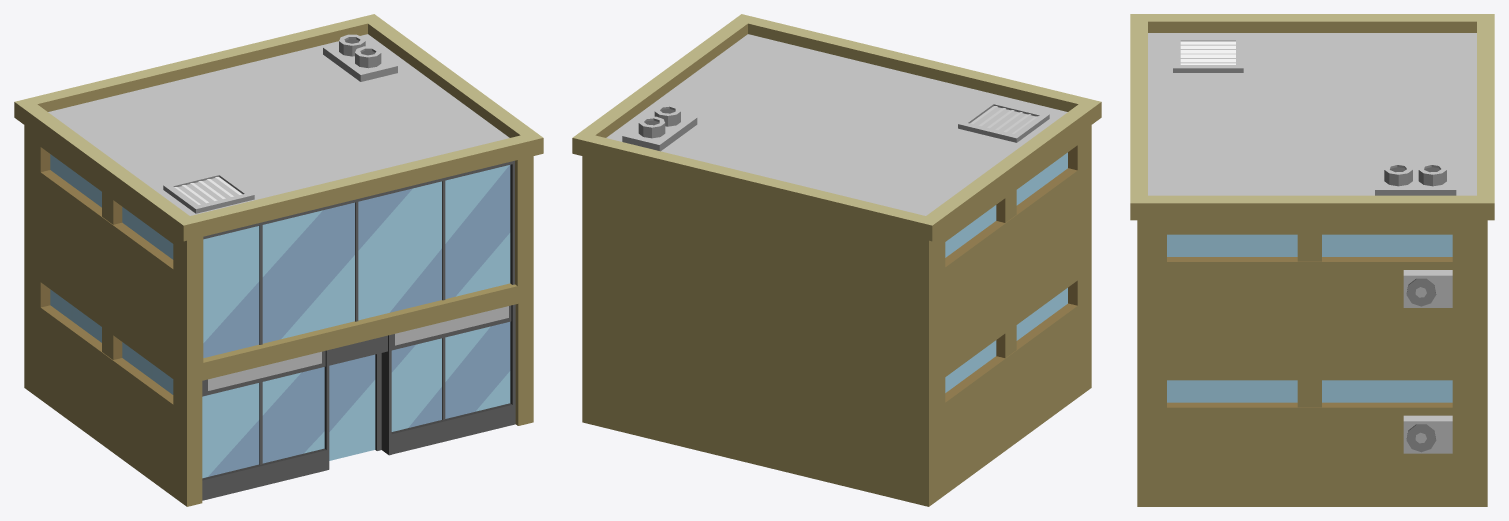
The model's file is supermarket_009.glb.
3 views of the same model, side by side, from view 1: azimuth 30°, elevation 25°; view 2: azimuth 150°, elevation 25°; view 3: azimuth 270°, elevation 25° (orthographic). The views are drawn at different scales.
Parts seen in each view (by area): view 1: supermarket_009; view 2: supermarket_009; view 3: supermarket_009.
Part boxes in pixels (bbox=[...]): supermarket_009: bbox=[14, 14, 543, 506]; supermarket_009: bbox=[572, 14, 1101, 506]; supermarket_009: bbox=[1130, 14, 1494, 506].
Bounding box in the file's own units: 7.52 × 5.75 × 6.03.
Materials: 1 (1 with a texture image).
